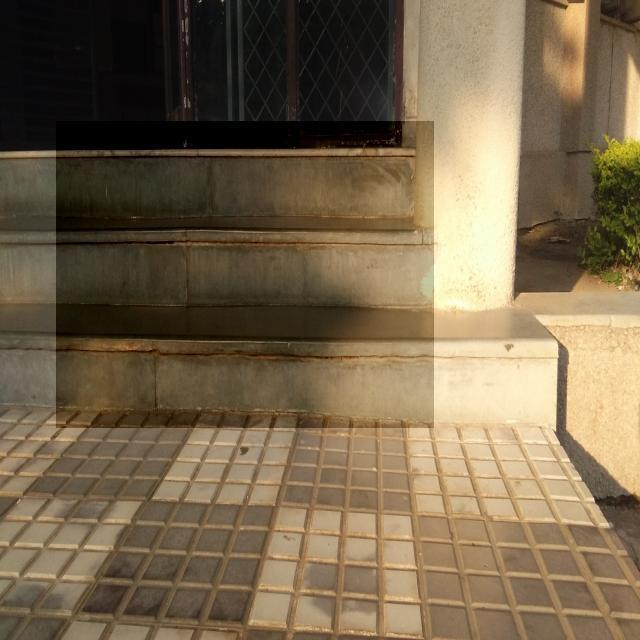stair: (56, 121, 434, 428)
